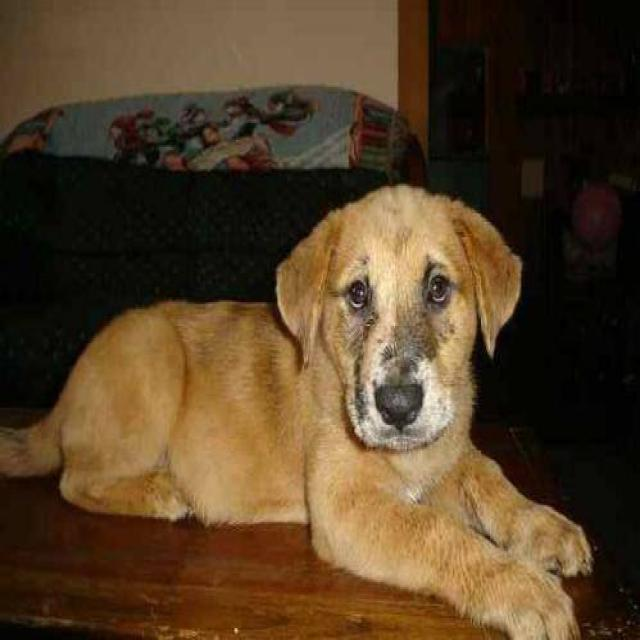dog: (0, 181, 594, 638)
